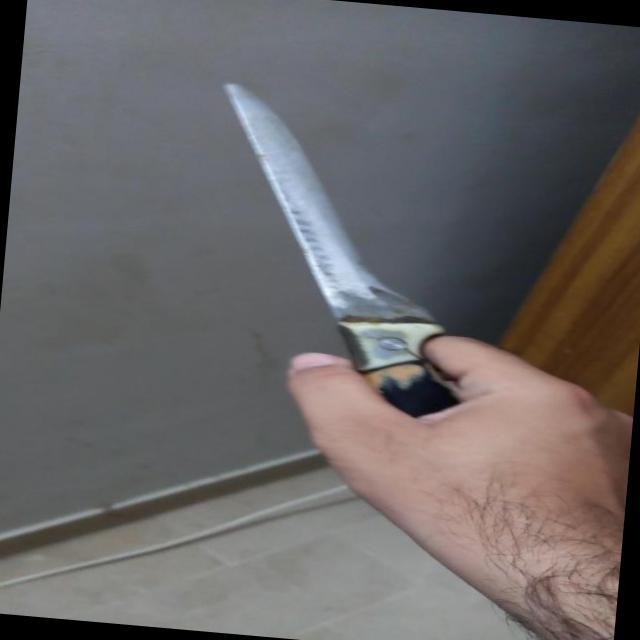Knife: (171, 66, 548, 489)
